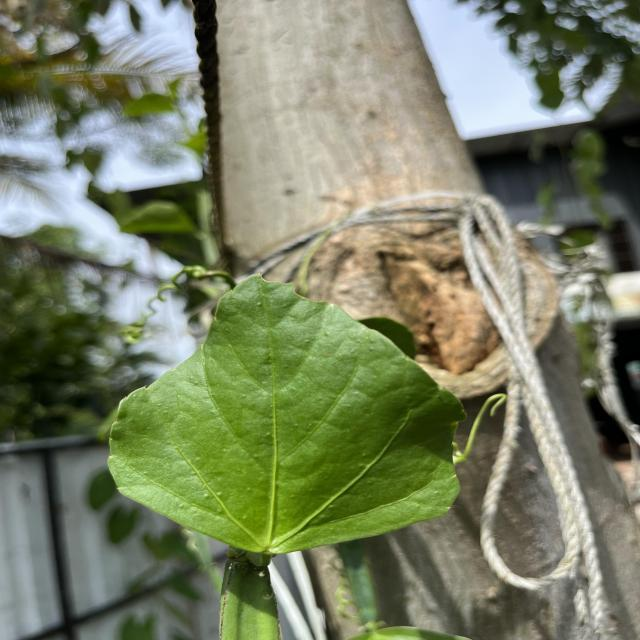Cissus quadrangularis: (104, 269, 472, 558)
